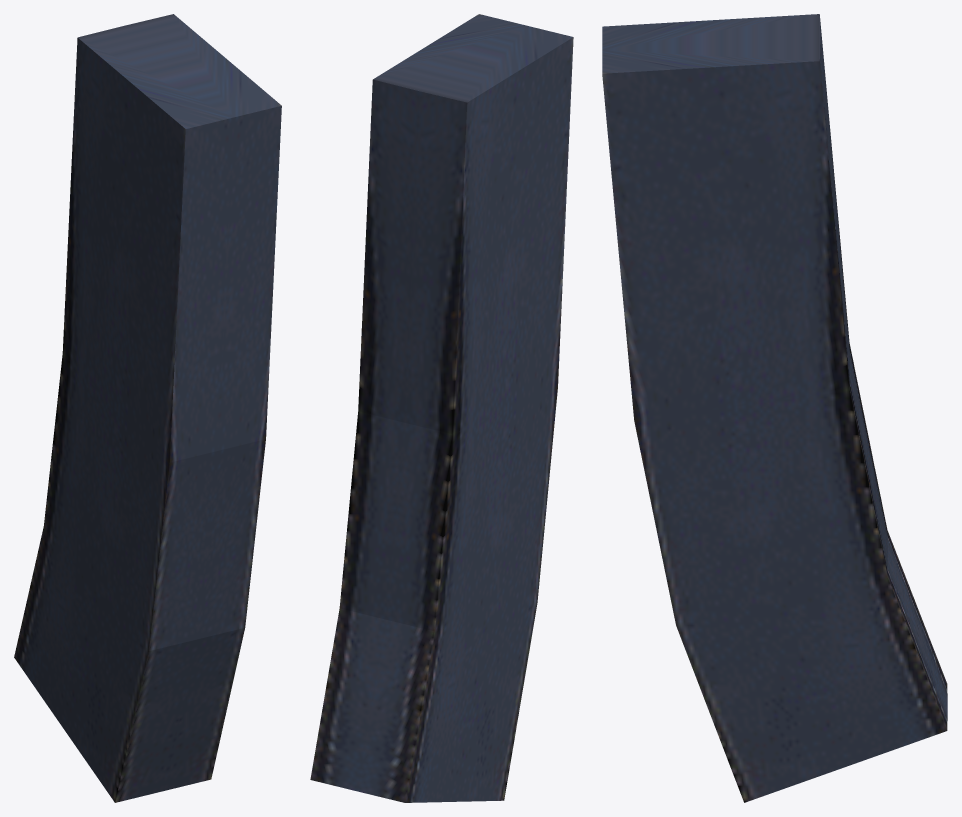
File: ghostbirdMag.glb
3 renders of one model, left to right at view 1: azimuth 30°, elevation 25°; view 2: azimuth 150°, elevation 25°; view 3: azimuth 270°, elevation 25°, orthographic. The views are drawn at different scales.
Parts seen in each view (by area): view 1: ghostbird spare mag.001; view 2: ghostbird spare mag.001; view 3: ghostbird spare mag.001.
Boxes of the visible parts, <box> form: ghostbird spare mag.001: <box>14,14,281,802</box>; ghostbird spare mag.001: <box>310,14,573,802</box>; ghostbird spare mag.001: <box>602,14,947,802</box>.
Bounding box in the file's own units: 0.0417 × 0.3059 × 0.1292.
1 material, 1 textured.
